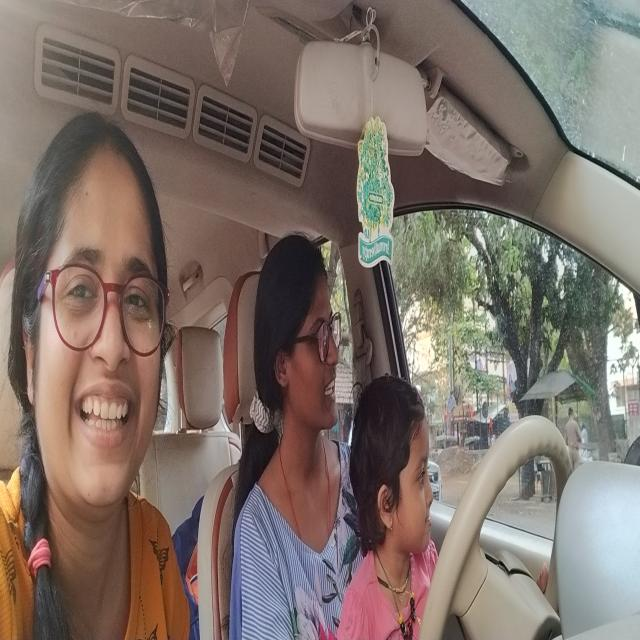child: (350, 367, 436, 562)
person: (5, 99, 184, 551), (250, 226, 344, 432)
